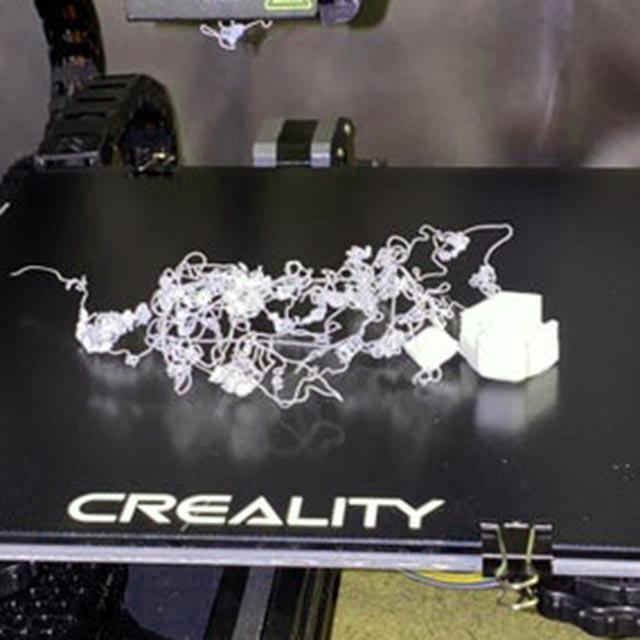Spaghetti: (69, 218, 514, 408), (198, 15, 273, 51), (8, 262, 88, 294)
